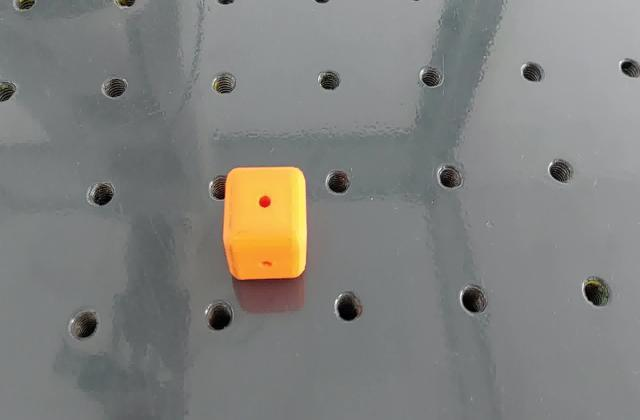cube: (223, 163, 309, 286)
